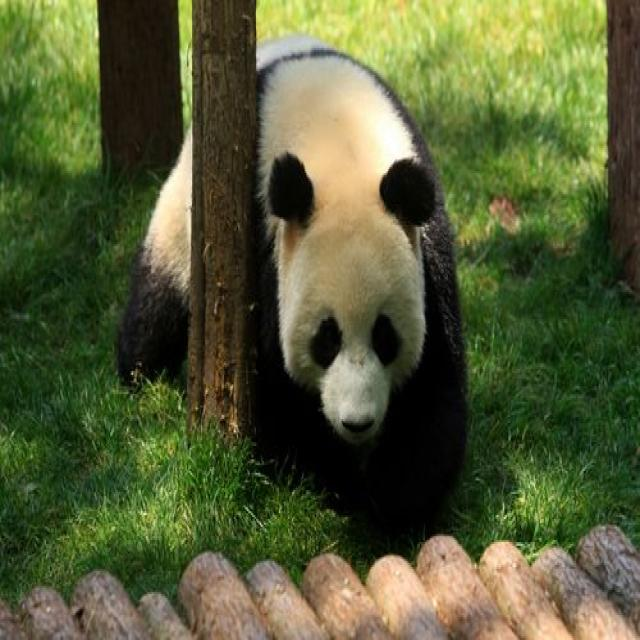panda: (139, 36, 476, 524)
